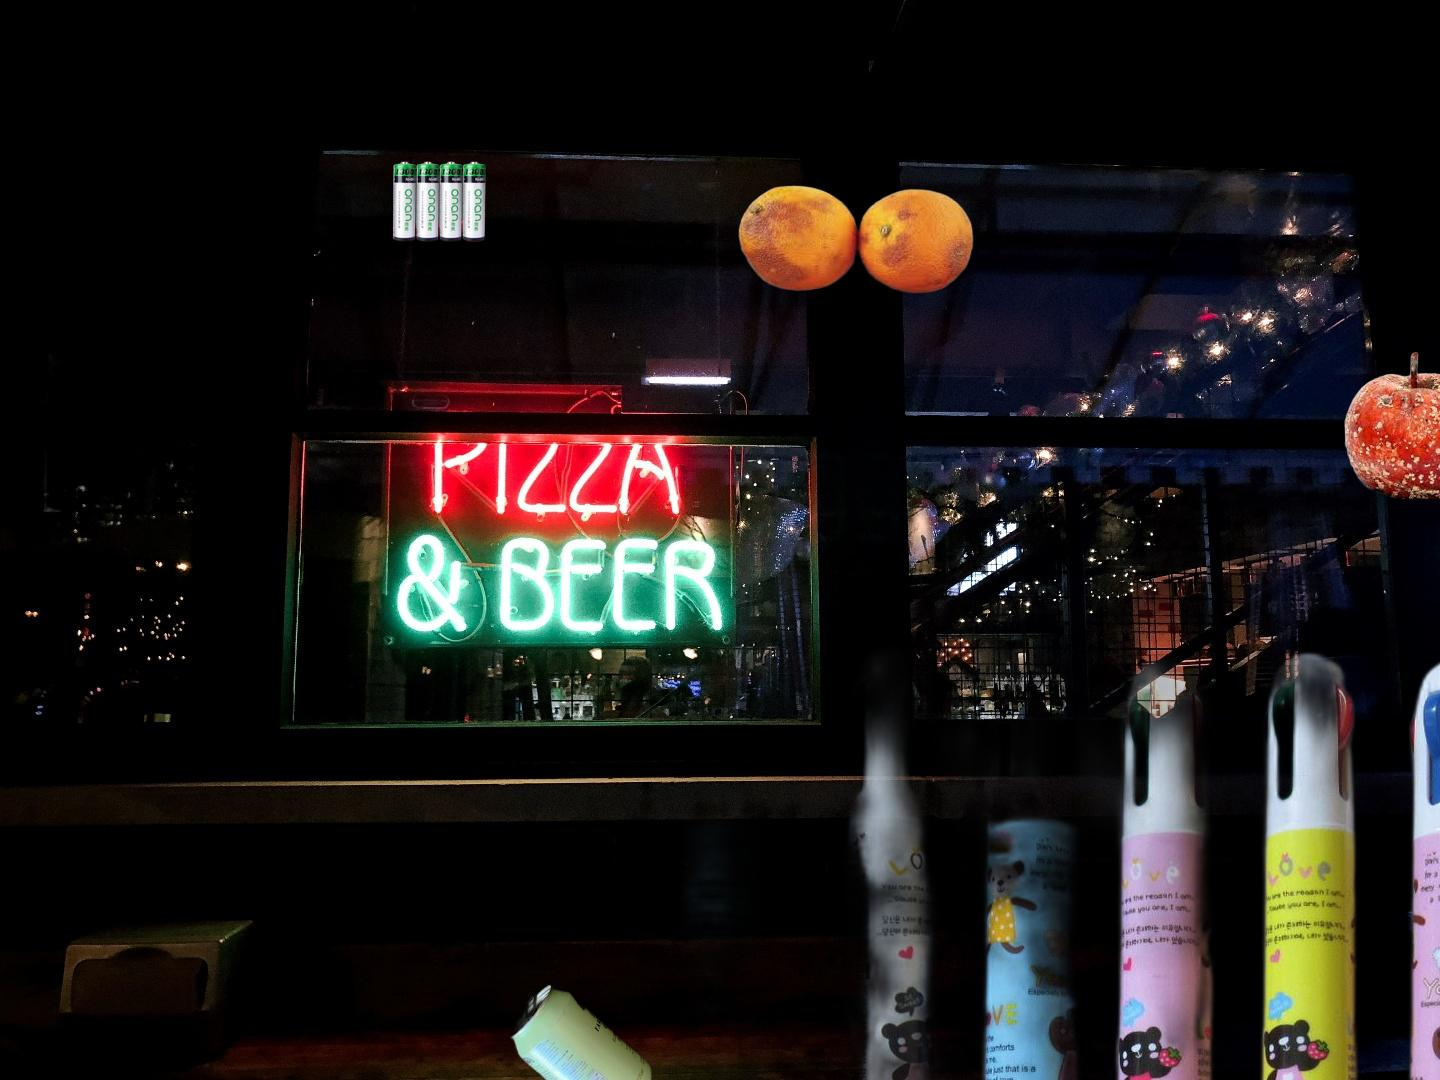battery: (390, 158, 516, 245)
biological: (735, 182, 977, 297), (1341, 349, 1440, 502)
metal-cans: (505, 978, 657, 1080)
penholder: (603, 610, 1440, 1080)
